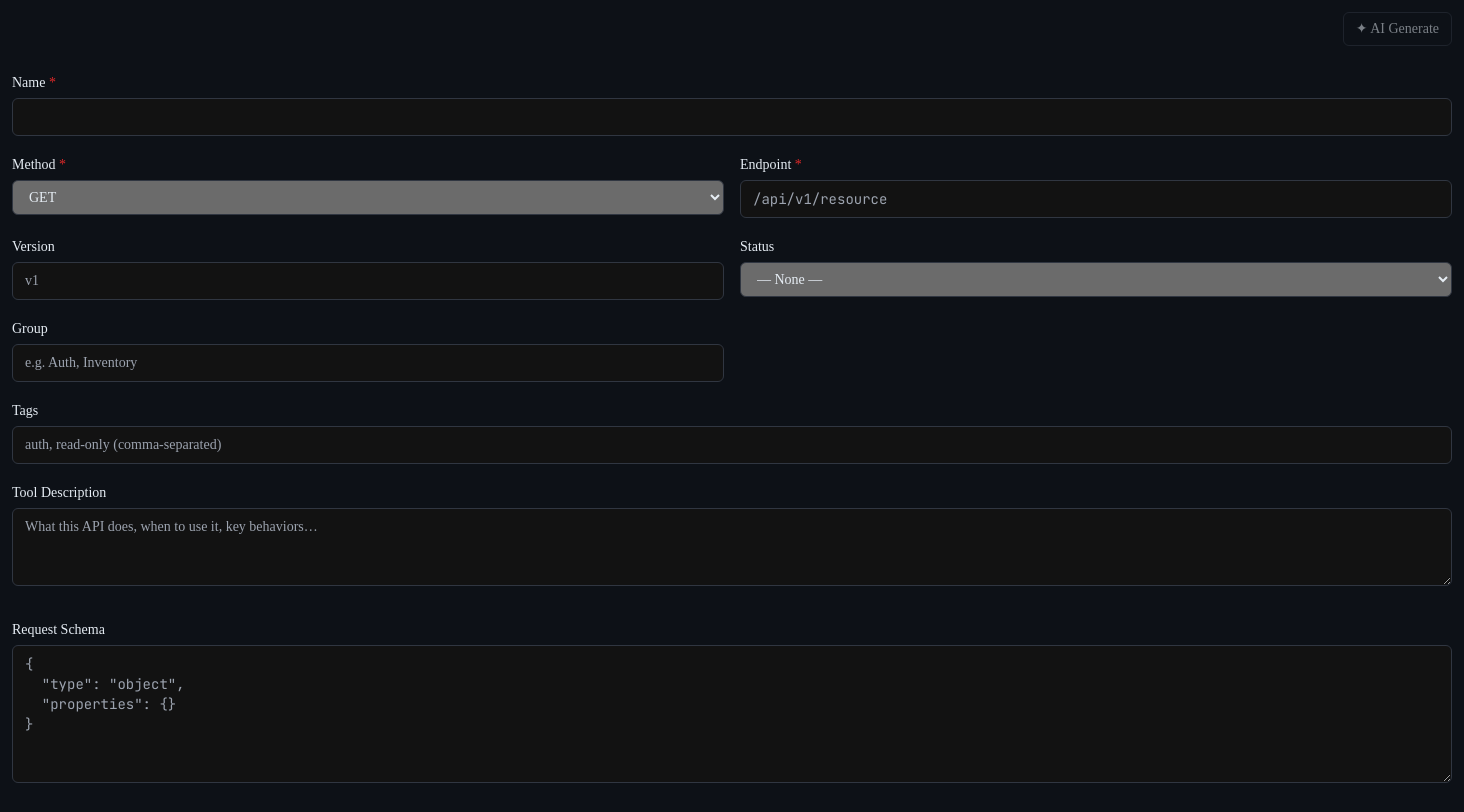
ApiForm — AI Generate button › populates tool_description after generation
The width and height of the screenshot is (1464, 812).
Type "Get Items" into the field labelled "Name *".
click(732, 117); type("Get Items")  # box x1=12 y1=98 x2=1452 y2=136
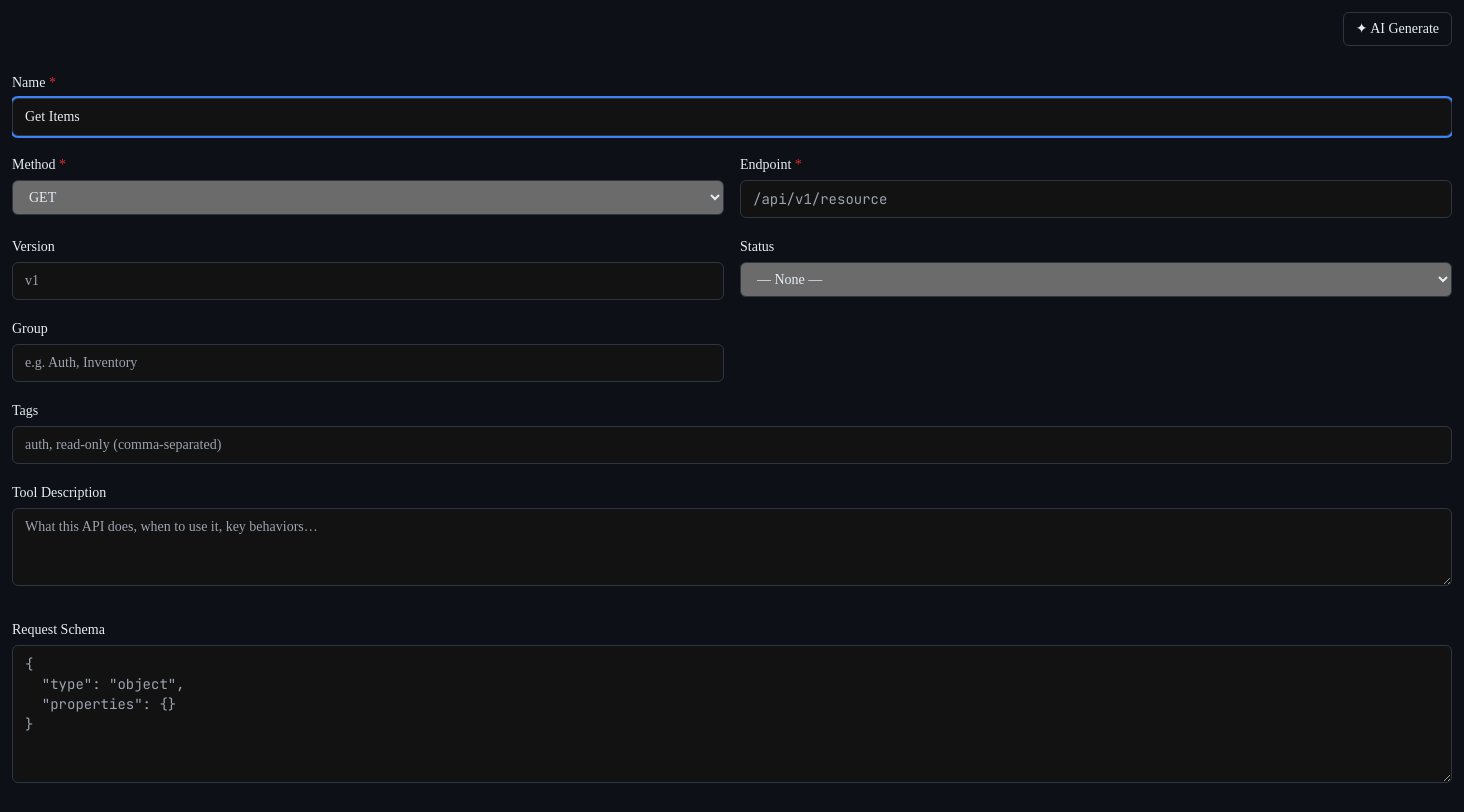
Click the button "✦ AI Generate".
click(1397, 29)  # box x1=1343 y1=12 x2=1452 y2=46
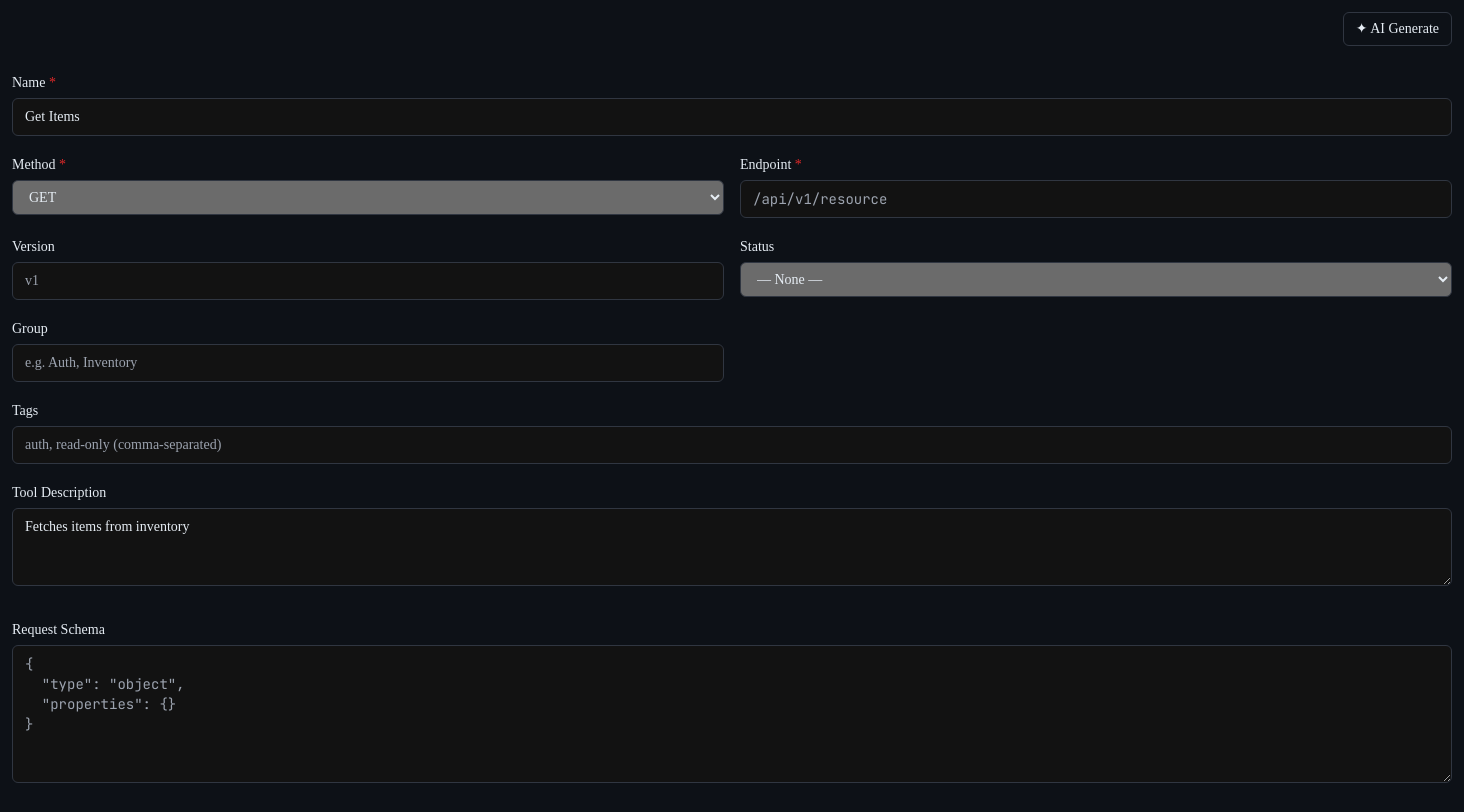
Result: the text box labelled "Tool Description" holds "Fetches items from inventory" at x1=12 y1=508 x2=1452 y2=586
